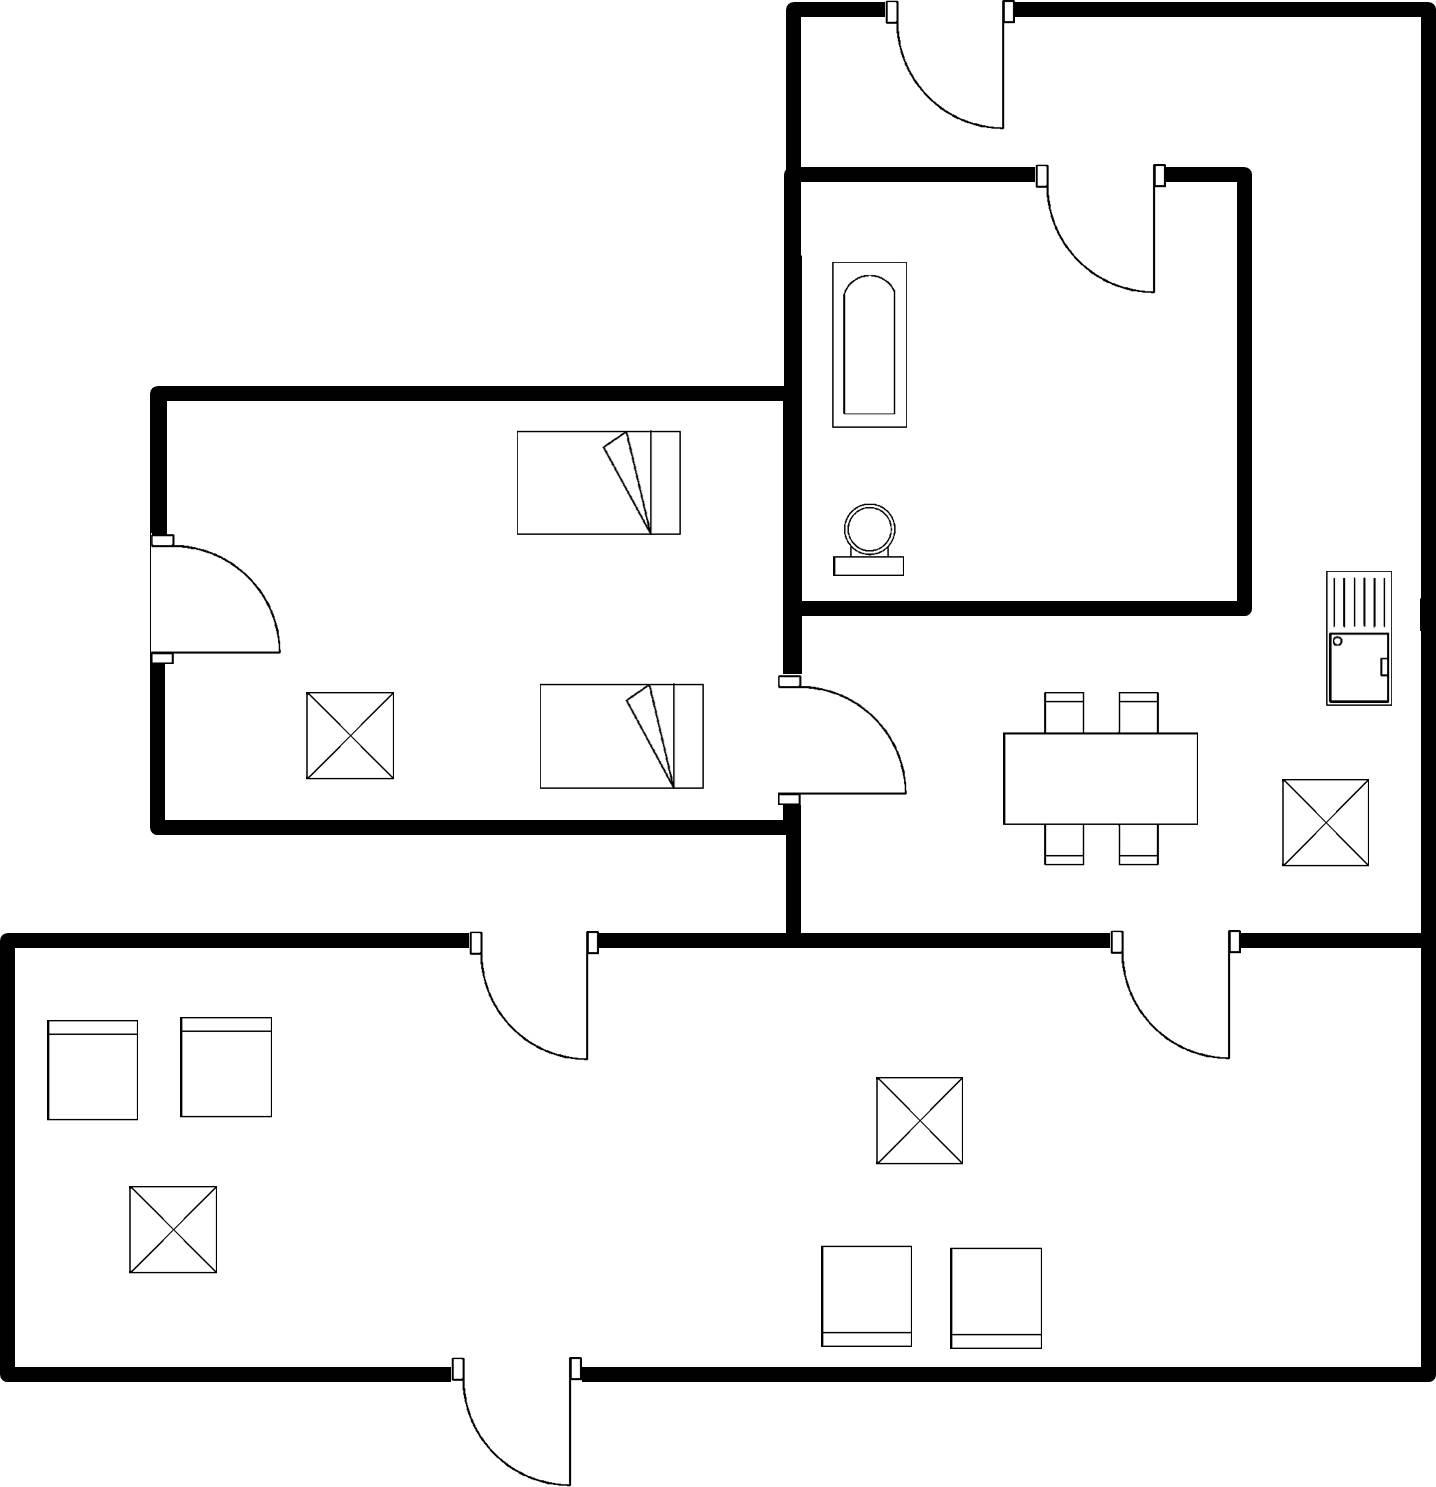bed: (528, 668, 718, 801), (506, 422, 690, 544)
dining_table: (989, 680, 1210, 878)
sink: (1313, 559, 1400, 716)
toilet: (819, 493, 912, 587)
tub: (822, 251, 916, 443)
